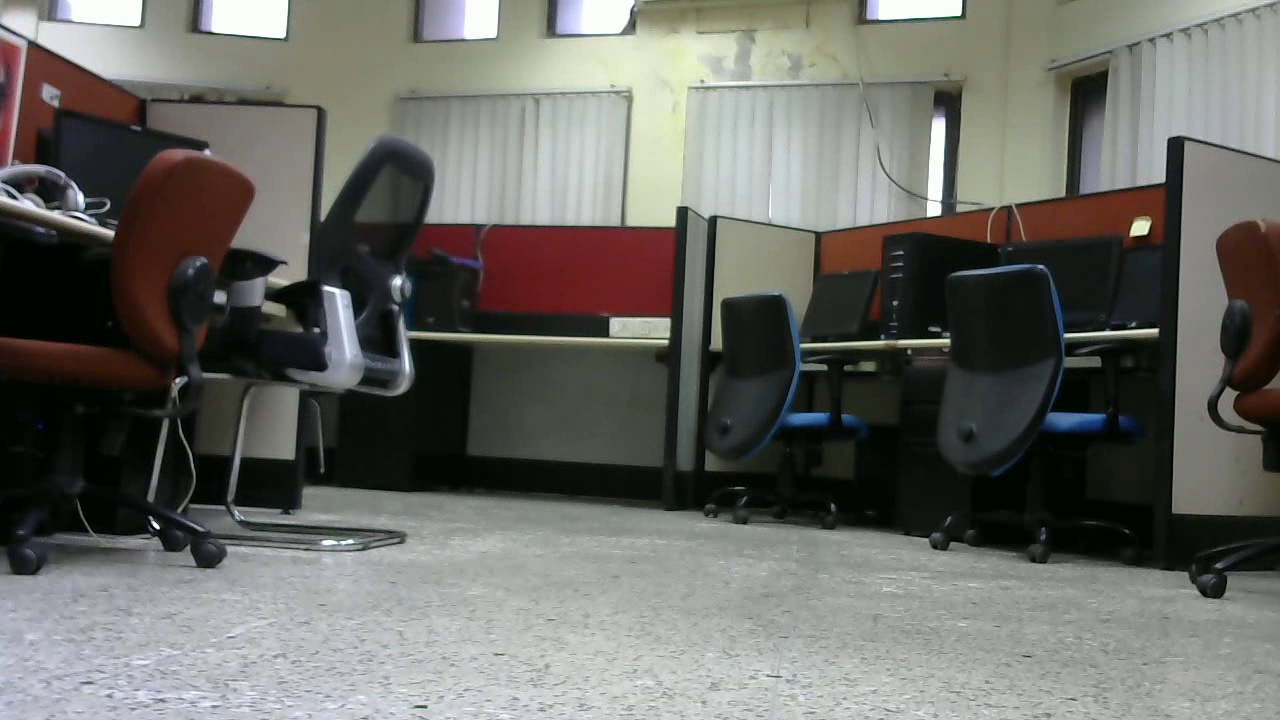chair: (2, 136, 236, 576), (208, 131, 442, 565), (914, 259, 1142, 569), (693, 286, 875, 533)
